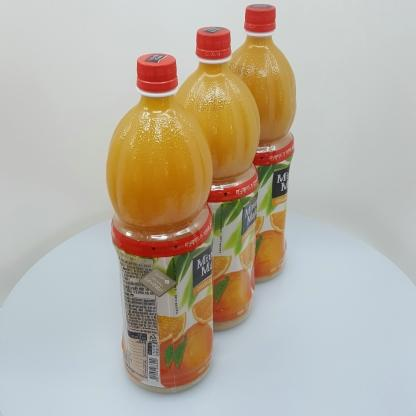------------1-5L: (106, 53, 214, 394), (173, 26, 261, 332)
